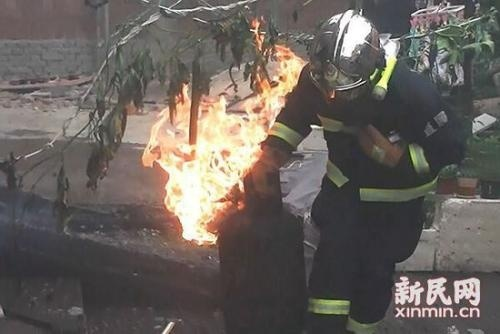fire: (138, 53, 299, 250)
